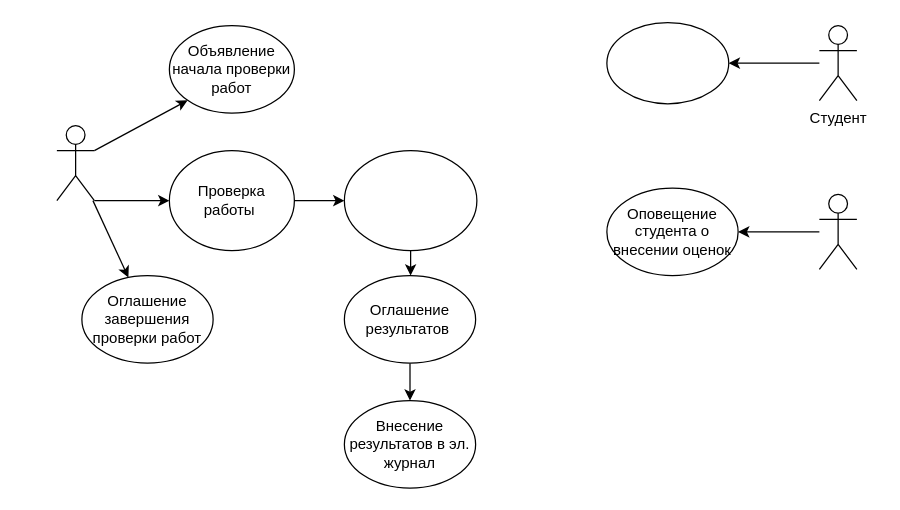
Some shapes in this 900 by 510 pixel diagram are drawn without their labels. The centre of each missing label's shape, as x and y in pixels:
"Вызов студента для проверки работы" goes at pixel 410 200.
"Защита работы" goes at pixel 667 62.
"Преподаватель" goes at pixel 75 162.
"Эл. Журнал" goes at pixel 837 231.
